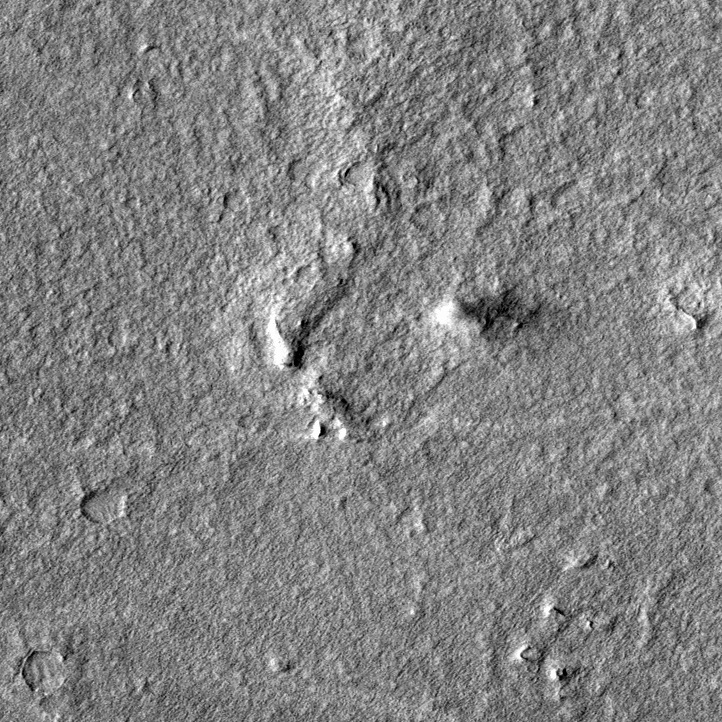dust_devil: (427, 283, 544, 339)
